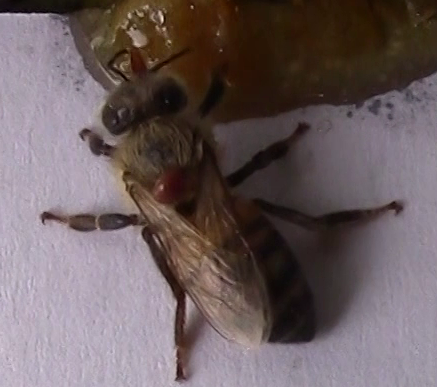Varroa destructor: (150, 163, 191, 205)
